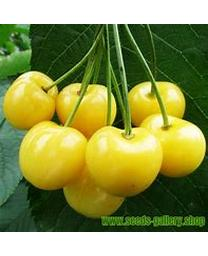cherry: (85, 126, 163, 198), (20, 122, 88, 191), (139, 114, 204, 178), (56, 83, 116, 137), (4, 71, 58, 130), (128, 80, 186, 129)
